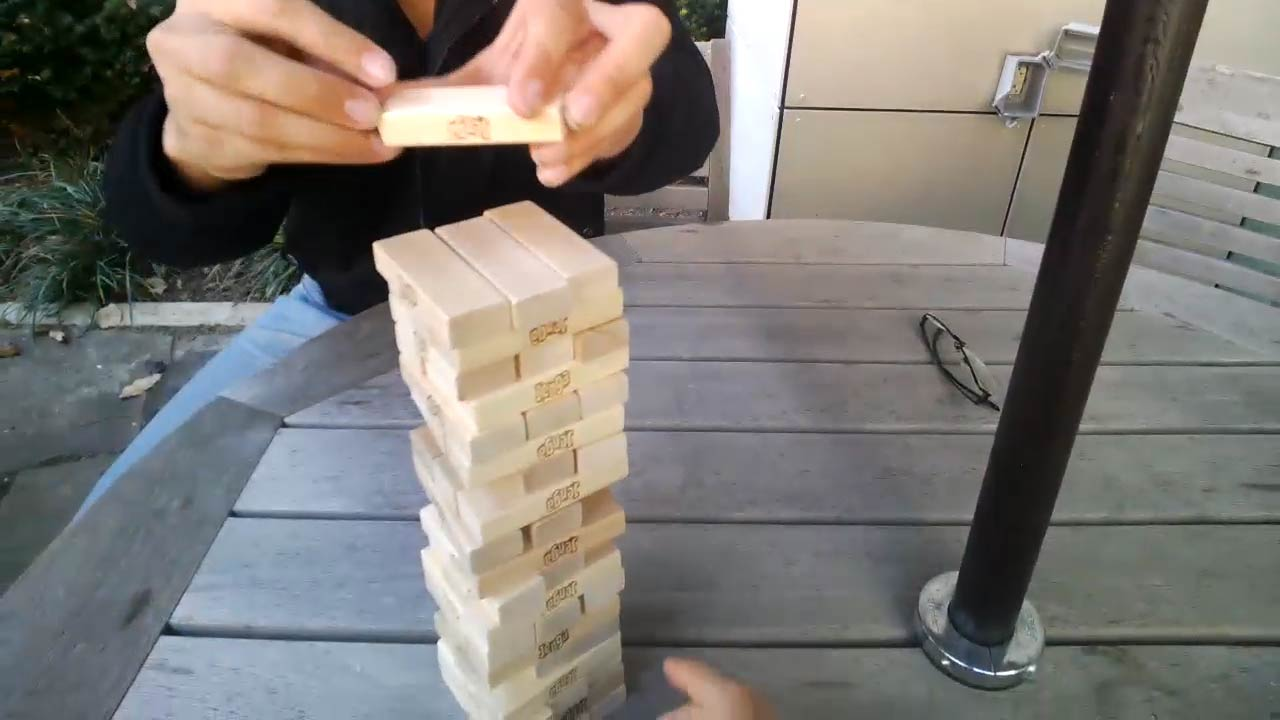hand: (151, 1, 398, 178), (655, 662, 753, 715)
